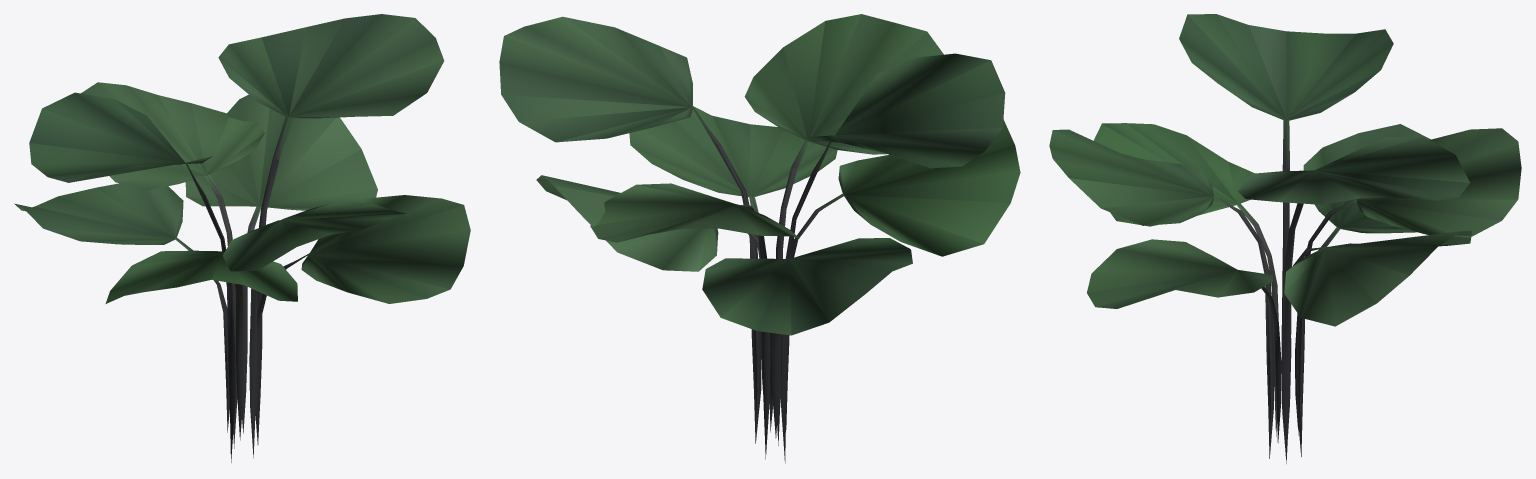
Rendered from plants-leafy-plants-round-leaf-plant_v3.fbx.
3 views of the same model, side by side, from view 1: azimuth 30°, elevation 25°; view 2: azimuth 150°, elevation 25°; view 3: azimuth 270°, elevation 25° (orthographic). The views are drawn at different scales.
Visible parts, largest first — view 1: Round Leaf Plant_v3; view 2: Round Leaf Plant_v3; view 3: Round Leaf Plant_v3.
Boxes of the visible parts, bbox=[...] form: Round Leaf Plant_v3: bbox=[14, 14, 470, 462]; Round Leaf Plant_v3: bbox=[499, 14, 1020, 463]; Round Leaf Plant_v3: bbox=[1049, 14, 1521, 463].
Bounding box in the file's own units: 0.5 × 0.4359 × 0.4939.
